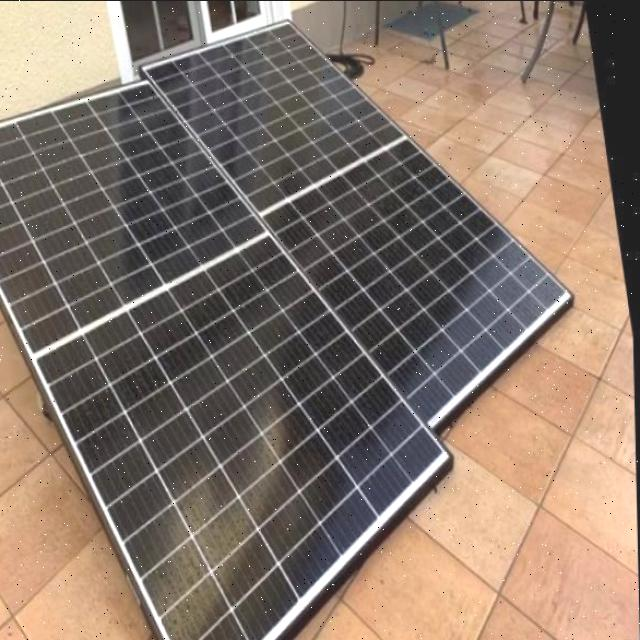Normal Solar Panel: (0, 47, 482, 640), (143, 0, 593, 467)
